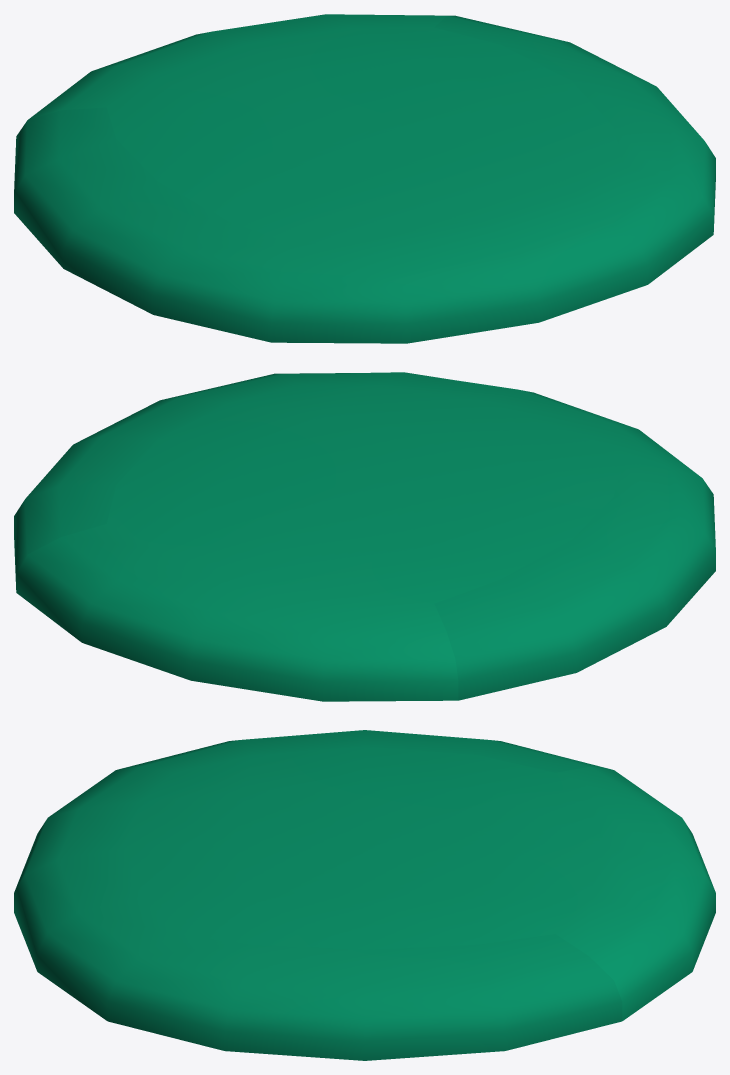
Rendered from Moss.fbx.
The picture shows the model from 3 angles, top to bottom: view 1: azimuth 30°, elevation 25°; view 2: azimuth 150°, elevation 25°; view 3: azimuth 270°, elevation 25°; orthographic projection.
Visible parts, largest first — view 1: moss1; view 2: moss1; view 3: moss1.
Boxes of the visible parts, box(x1,y1,x2,y2) form: moss1: box(14, 14, 715, 343); moss1: box(14, 372, 715, 701); moss1: box(14, 730, 715, 1060).
Size of what is drawn, in the model's own units: 184 by 21.32 by 184.
1 material, 1 textured.
